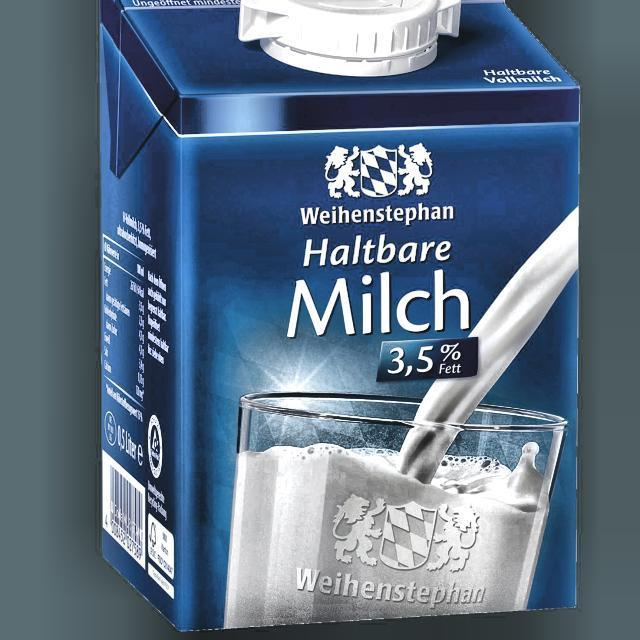cardboard: (99, 0, 580, 630)
